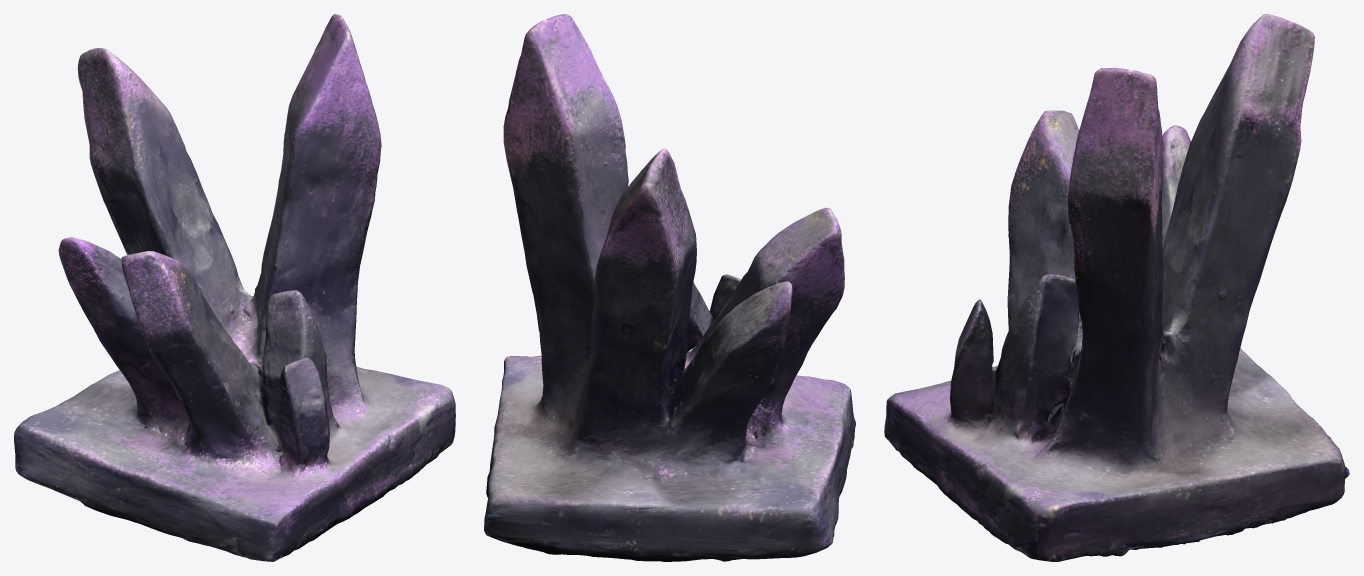
The picture shows the model from 3 angles, left to right: view 1: azimuth 30°, elevation 25°; view 2: azimuth 150°, elevation 25°; view 3: azimuth 270°, elevation 25°; orthographic projection. The views are drawn at different scales.
Visible parts, largest first — view 1: Mesh_0.017; view 2: Mesh_0.017; view 3: Mesh_0.017.
Part boxes in pixels (x1,y1,x2,y2): Mesh_0.017: [14, 14, 455, 561]; Mesh_0.017: [484, 14, 855, 561]; Mesh_0.017: [884, 14, 1349, 561].
Size of the model in its own units: 1.56 by 1.71 by 1.54.
6 materials, 5 textured.
